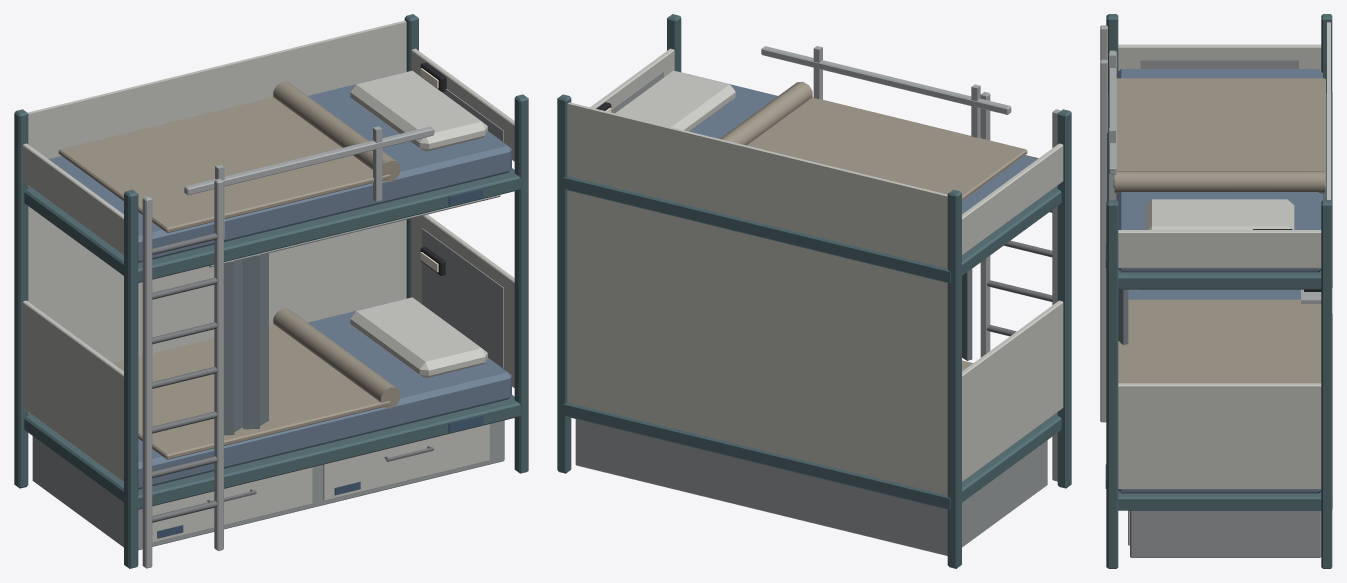
The model's file is astro_bunk.fbx.
3 renders of one model, left to right at view 1: azimuth 30°, elevation 25°; view 2: azimuth 150°, elevation 25°; view 3: azimuth 270°, elevation 25°, orthographic. The views are drawn at different scales.
Visible parts, largest first — view 1: Bunk_Body; view 2: Bunk_Body; view 3: Bunk_Body.
Part boxes in pixels (x1,y1,x2,y2): Bunk_Body: (14, 14, 528, 568); Bunk_Body: (557, 14, 1071, 568); Bunk_Body: (1100, 14, 1332, 568).
Bounding box in the file's own units: 470 × 424 × 242.
